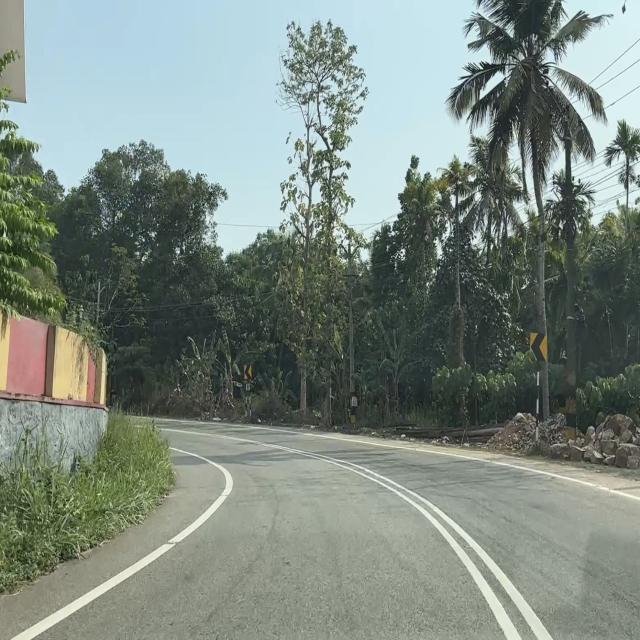TURN_LEFT: (529, 330, 549, 365), (243, 364, 253, 379)
